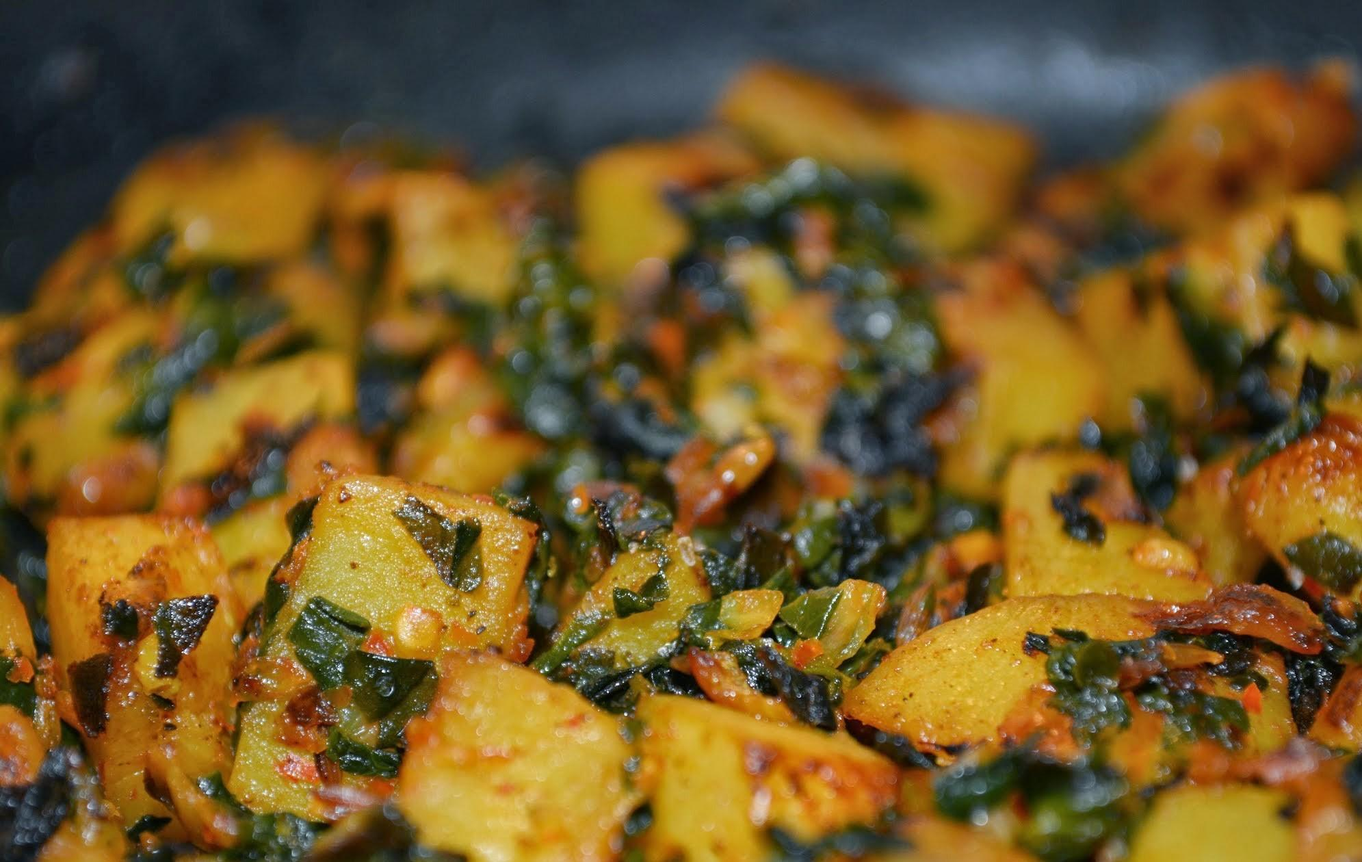AlooMasala: (0, 56, 1362, 862)
